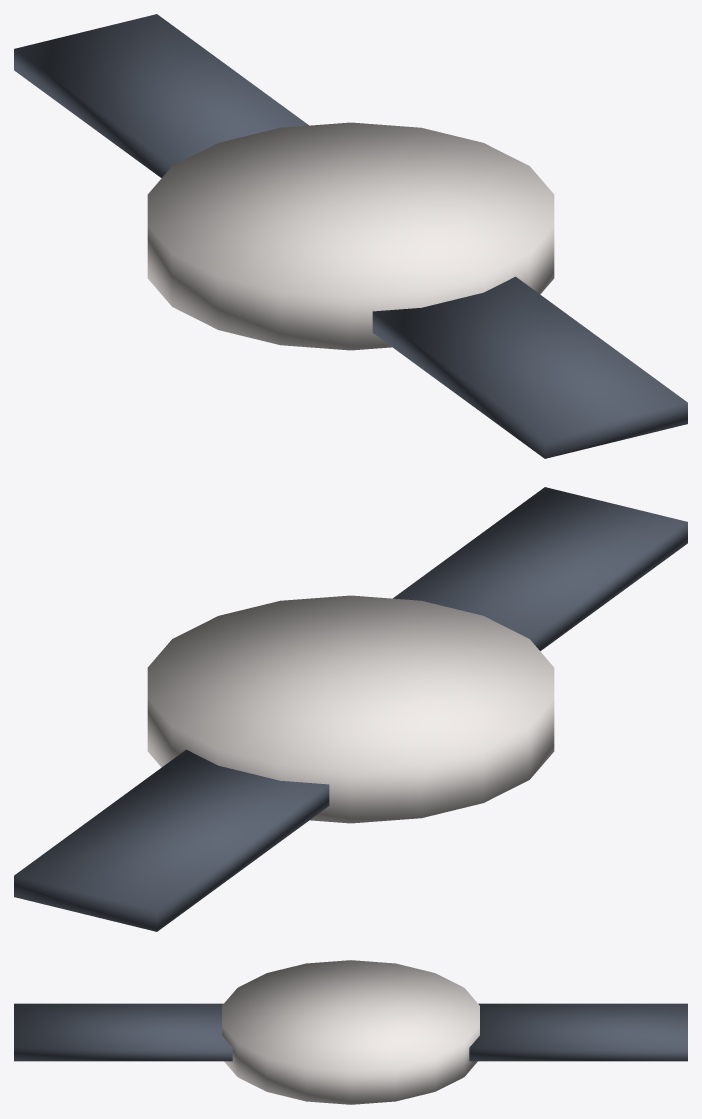
File: watch.glb
3 renders of one model, top to bottom at view 1: azimuth 30°, elevation 25°; view 2: azimuth 150°, elevation 25°; view 3: azimuth 270°, elevation 25°, orthographic. The views are drawn at different scales.
Parts seen in each view (by area): view 1: case, s1, s2; view 2: case, s2, s1; view 3: case, s1, s2.
Part boxes in pixels (bbox=[...]): case: bbox=[147, 122, 554, 350]; s1: bbox=[372, 276, 687, 458]; s2: bbox=[14, 14, 308, 177]; case: bbox=[147, 595, 554, 823]; s2: bbox=[14, 749, 329, 931]; s1: bbox=[393, 487, 687, 650]; case: bbox=[222, 960, 479, 1104]; s1: bbox=[14, 1003, 232, 1061]; s2: bbox=[469, 1003, 687, 1061].
Size of the model in its own units: 0.7 by 0.1 by 1.8.
